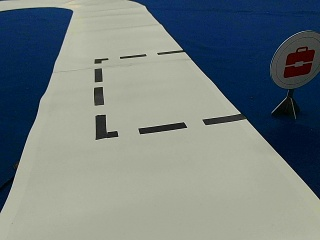company: (270, 30, 319, 87)
